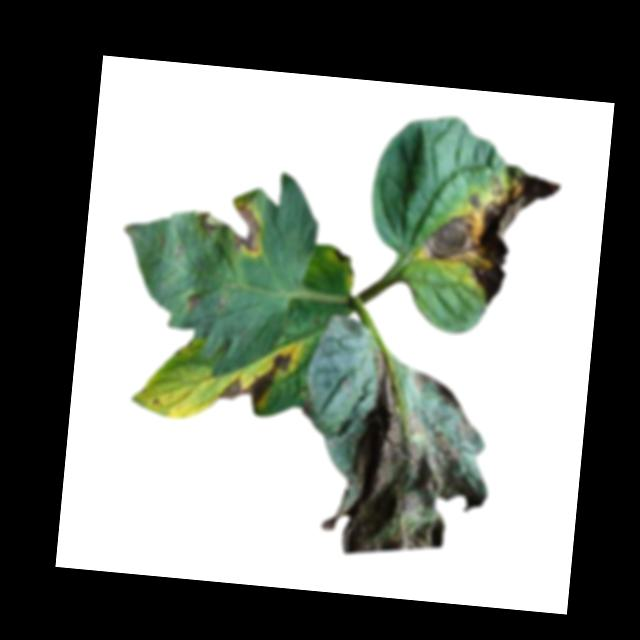Early_blight: (318, 344, 501, 567), (415, 155, 563, 312), (215, 347, 293, 416), (194, 197, 265, 258), (183, 287, 203, 309), (329, 249, 352, 262), (301, 393, 313, 417)
